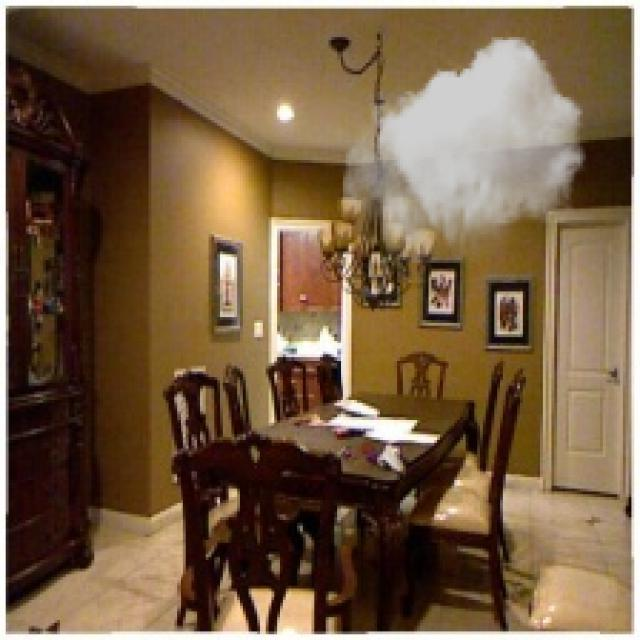Smoke: (343, 37, 586, 263)
